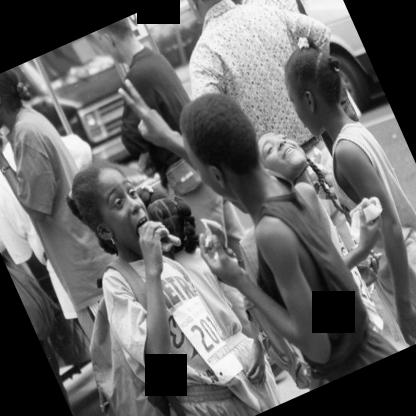backpack: (89, 297, 171, 416)
handbag: (0, 250, 72, 346)
